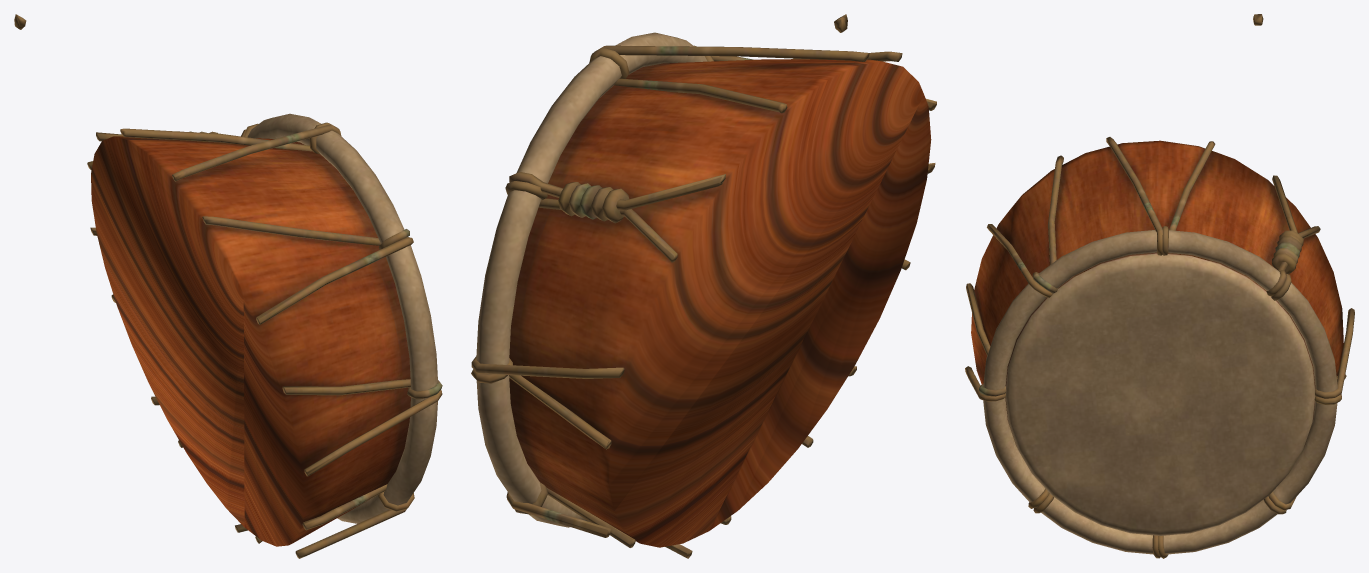
Rendered from Gendang_Terputus1.fbx.
3 renders of one model, left to right at view 1: azimuth 30°, elevation 25°; view 2: azimuth 150°, elevation 25°; view 3: azimuth 270°, elevation 25°, orthographic. The views are drawn at different scales.
Parts seen in each view (by area): view 1: Cylinder_Gendang_0.001; view 2: Cylinder_Gendang_0.001; view 3: Cylinder_Gendang_0.001.
Part boxes in pixels (bbox=[...]): Cylinder_Gendang_0.001: bbox=[14, 14, 442, 558]; Cylinder_Gendang_0.001: bbox=[471, 14, 936, 558]; Cylinder_Gendang_0.001: bbox=[965, 14, 1354, 558].
Size of the model in its own units: 706 by 1327 by 1048.
1 material, 1 textured.
